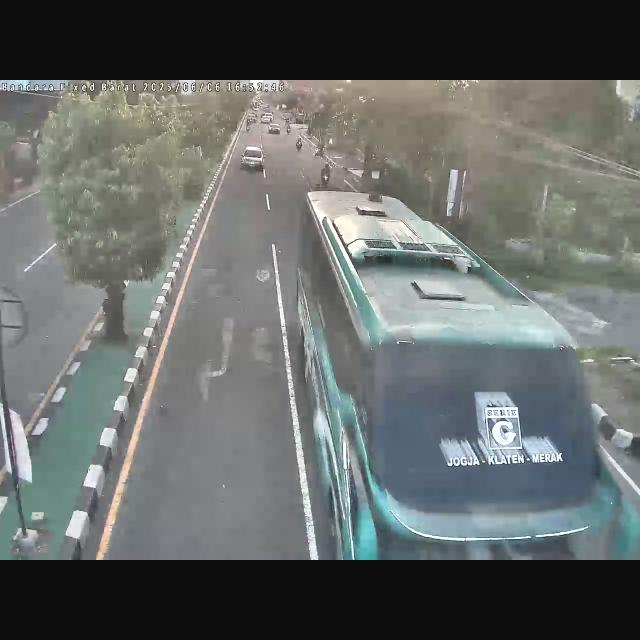Bis: (286, 182, 624, 560)
